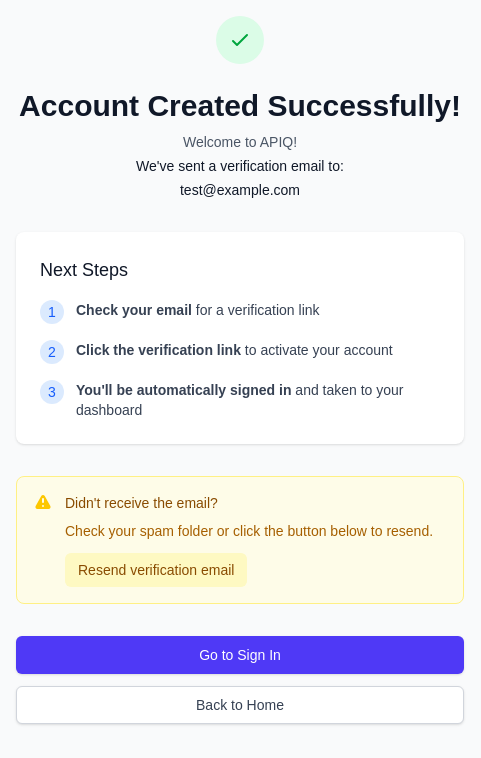
SignupSuccessPage › should handle successful resend verification
This screenshot has width=481, height=758.
Step 1. Click the button "Resend verification email" → x=156, y=570, box [65,553,247,587]
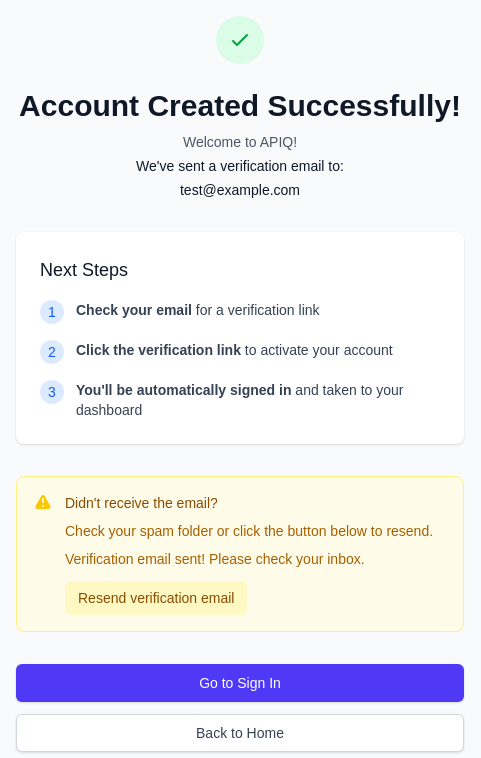
Result: the text "Verification email sent! Please check your inbox." is shown at [65,551,365,567]
